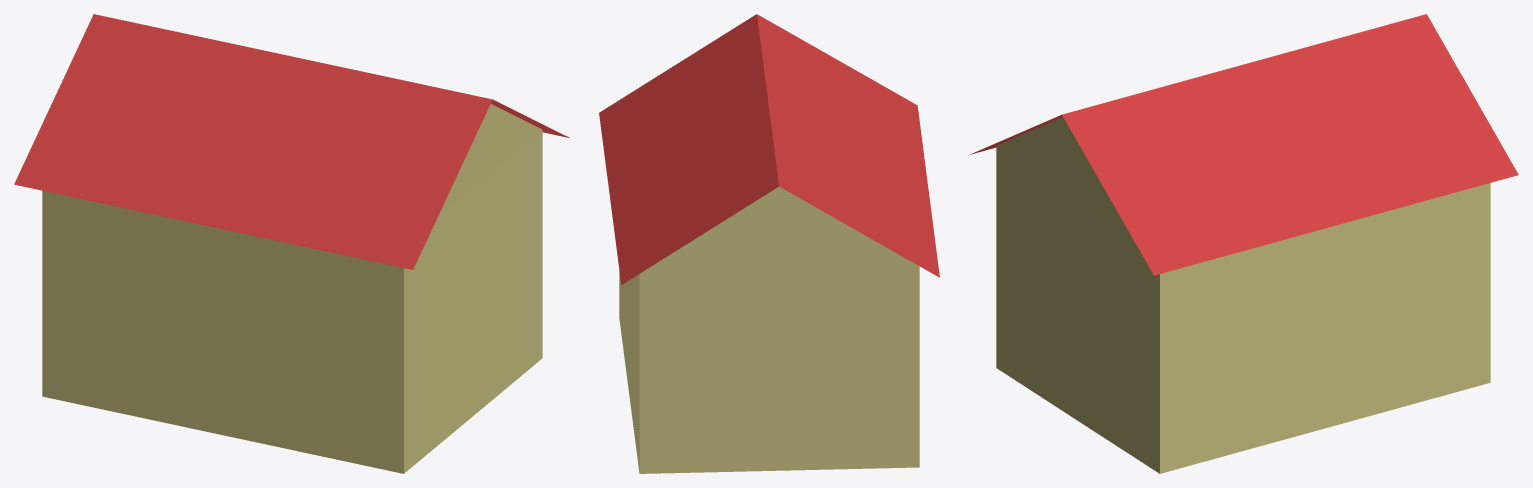
3 views of the same model, side by side, from view 1: azimuth 30°, elevation 25°; view 2: azimuth 150°, elevation 25°; view 3: azimuth 270°, elevation 25° (orthographic). The views are drawn at different scales.
Size of the model in its own units: 19.12 by 20.14 by 12.57.
